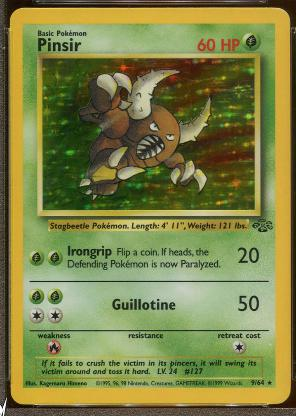Card: (4, 4, 292, 406)
